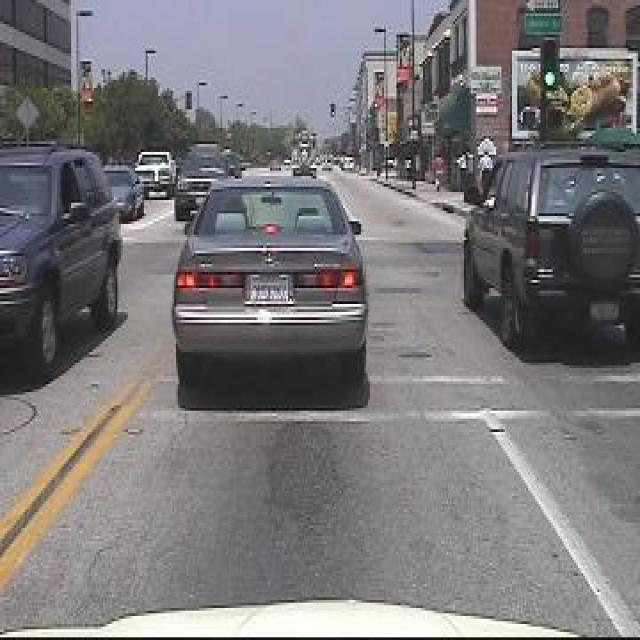car_back: (167, 160, 377, 408), (453, 133, 640, 352)
